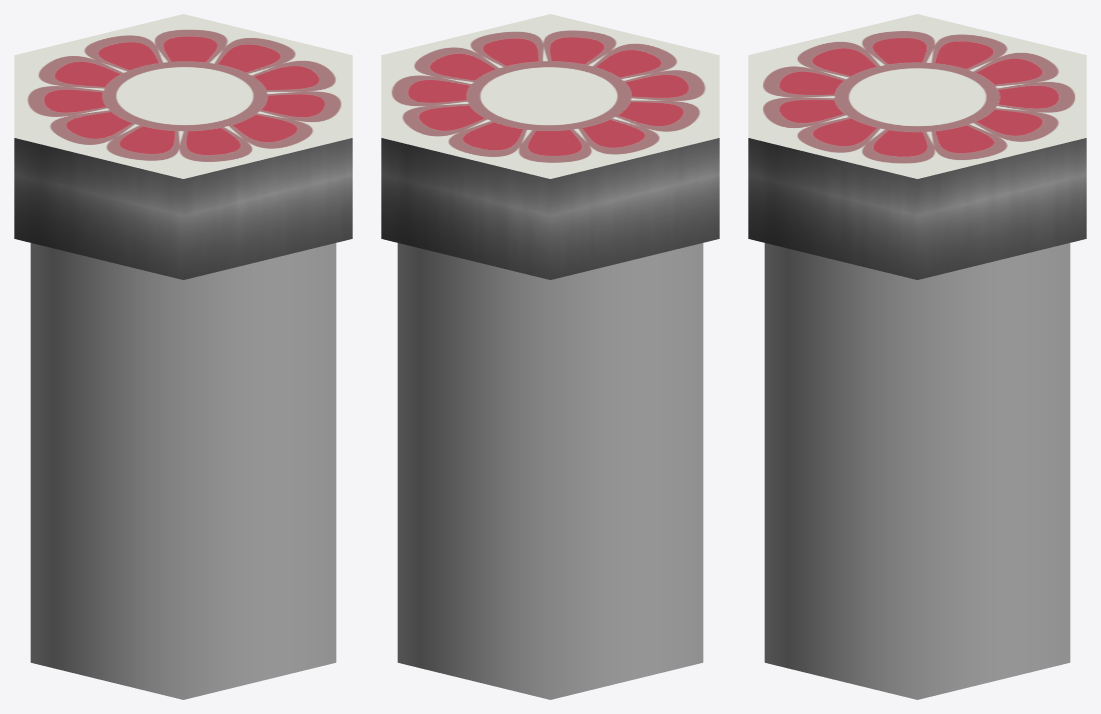
Rendered from Canister_D.FBX.
3 views of the same model, side by side, from view 1: azimuth 30°, elevation 25°; view 2: azimuth 150°, elevation 25°; view 3: azimuth 270°, elevation 25° (orthographic).
Parts seen in each view (by area): view 1: Cannister; view 2: Cannister; view 3: Cannister.
Boxes of the visible parts, <box> form: Cannister: <box>14,14,352,699</box>; Cannister: <box>381,14,719,699</box>; Cannister: <box>748,14,1086,699</box>.
Size of the model in its own units: 26.59 by 39.72 by 23.03.
